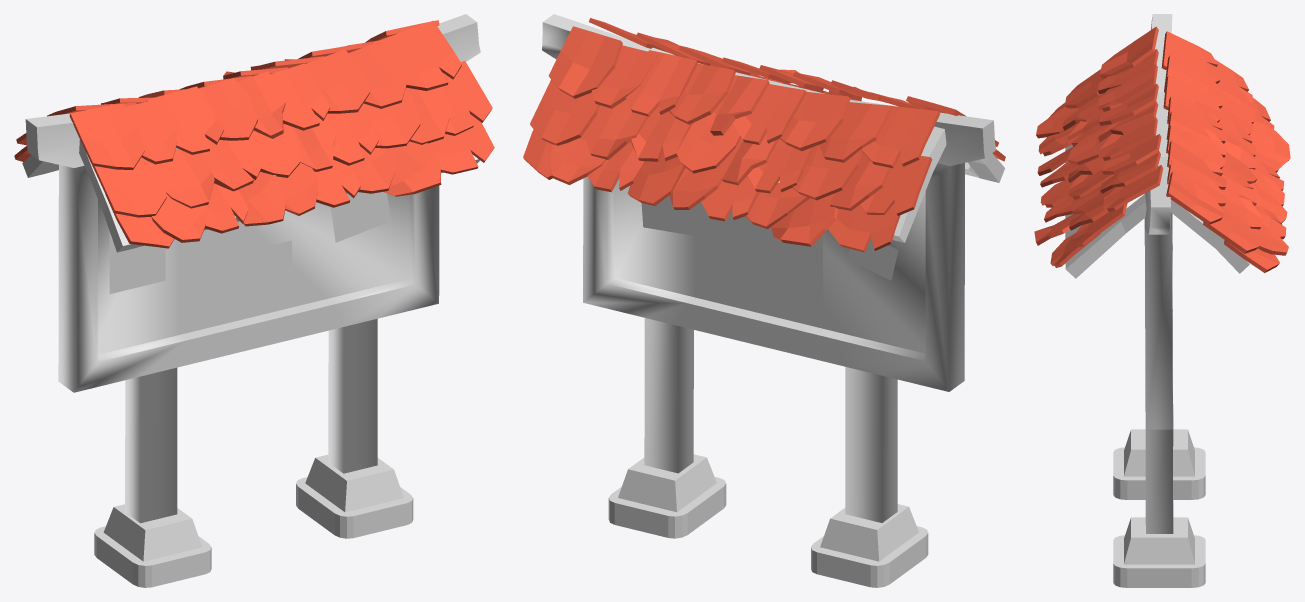
File: BulletinBoard.fbx
The picture shows the model from 3 angles, left to right: view 1: azimuth 30°, elevation 25°; view 2: azimuth 150°, elevation 25°; view 3: azimuth 270°, elevation 25°; orthographic projection. The views are drawn at different scales.
Visible parts, largest first — view 1: Cube.010; view 2: Cube.010; view 3: Cube.010.
Boxes of the visible parts, <box> form: Cube.010: <box>14,14,494,587</box>; Cube.010: <box>523,14,1005,587</box>; Cube.010: <box>1034,14,1290,587</box>.
Size of the model in its own units: 268 by 275 by 151.
